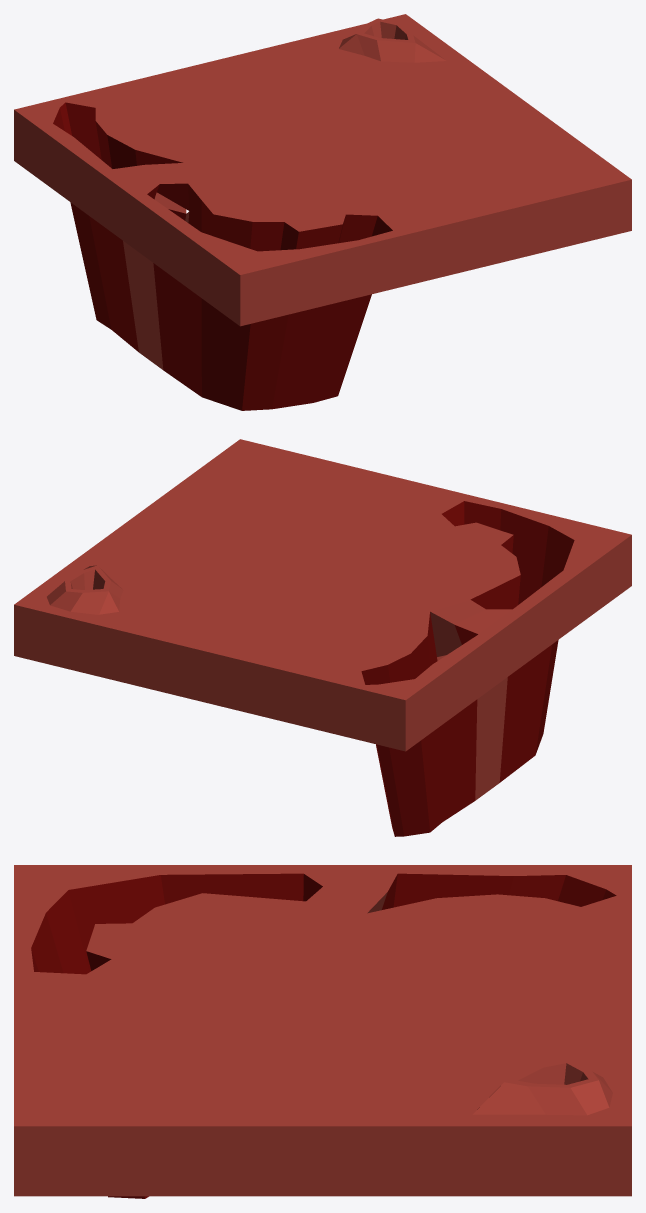
Rendered from Field_5.fbx.
3 views of the same model, one above another, from view 1: azimuth 30°, elevation 25°; view 2: azimuth 150°, elevation 25°; view 3: azimuth 270°, elevation 25° (orthographic). The views are drawn at different scales.
Parts seen in each view (by area): view 1: Plane.006; view 2: Plane.006; view 3: Plane.006.
Boxes of the visible parts, bbox=[...] form: Plane.006: bbox=[14, 14, 631, 410]; Plane.006: bbox=[14, 439, 631, 836]; Plane.006: bbox=[14, 865, 631, 1198].
Bounding box in the file's own units: 400 × 188 × 400.
